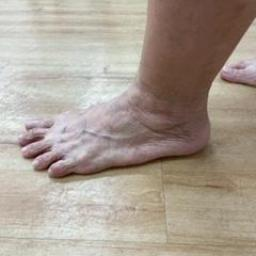Lateral View -Left Foot-: (6, 74, 246, 188)
